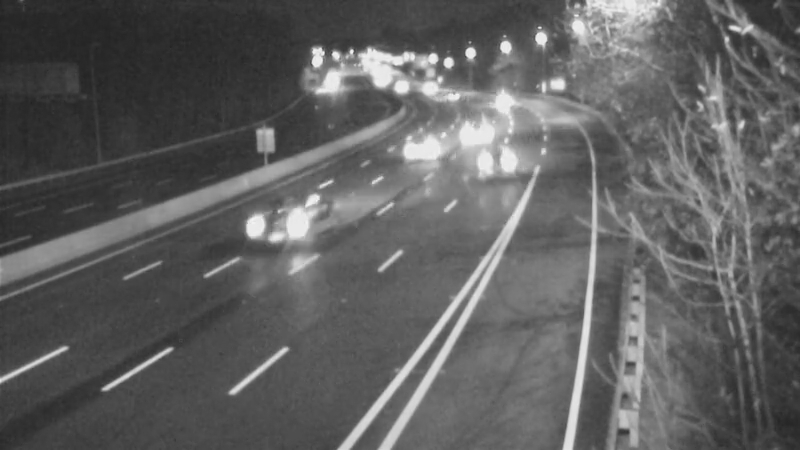vehicle: (464, 116, 544, 196), (257, 180, 337, 260), (431, 74, 481, 124), (486, 72, 536, 122), (451, 100, 501, 150), (404, 118, 454, 168)
